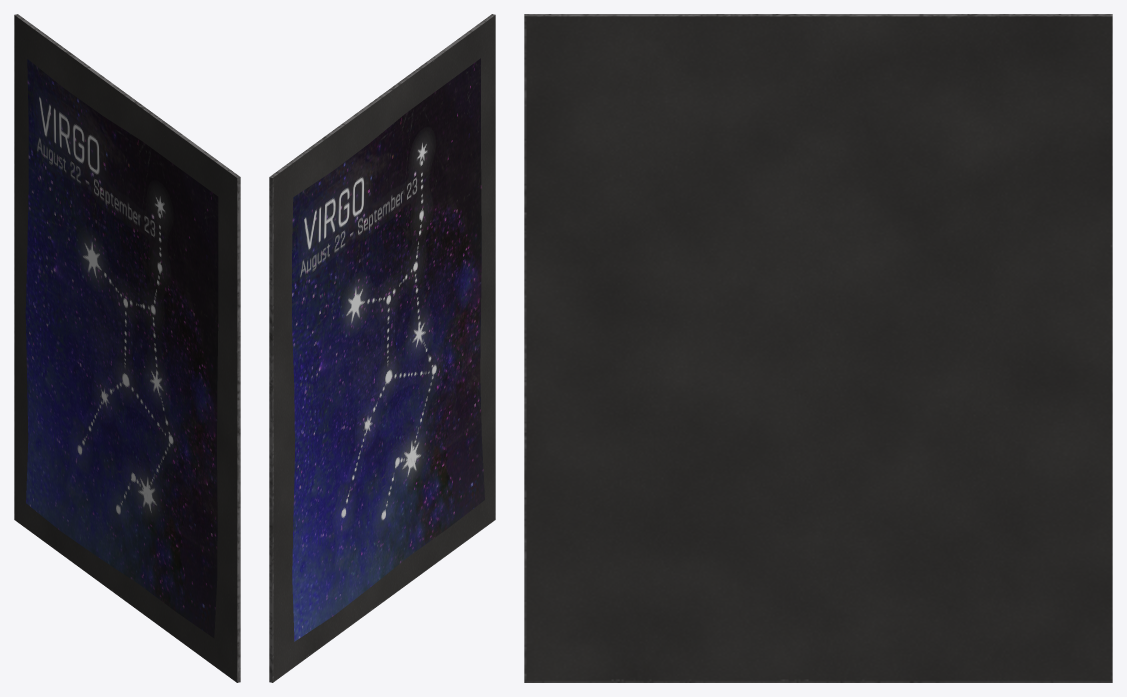
File: SM_Wall_Constellations_01f.fbx
3 views of the same model, side by side, from view 1: azimuth 30°, elevation 25°; view 2: azimuth 150°, elevation 25°; view 3: azimuth 270°, elevation 25° (orthographic). The views are drawn at different scales.
Visible parts, largest first — view 1: SM_Wall_Constellations_01f_LOD0; view 2: SM_Wall_Constellations_01f_LOD0; view 3: SM_Wall_Constellations_01f_LOD0.
Boxes of the visible parts, x1,y1,x2,y2 form: SM_Wall_Constellations_01f_LOD0: [14, 14, 240, 682]; SM_Wall_Constellations_01f_LOD0: [269, 14, 495, 682]; SM_Wall_Constellations_01f_LOD0: [524, 14, 1112, 682].
Size of the model in its own units: 1.19 by 40 by 50.
